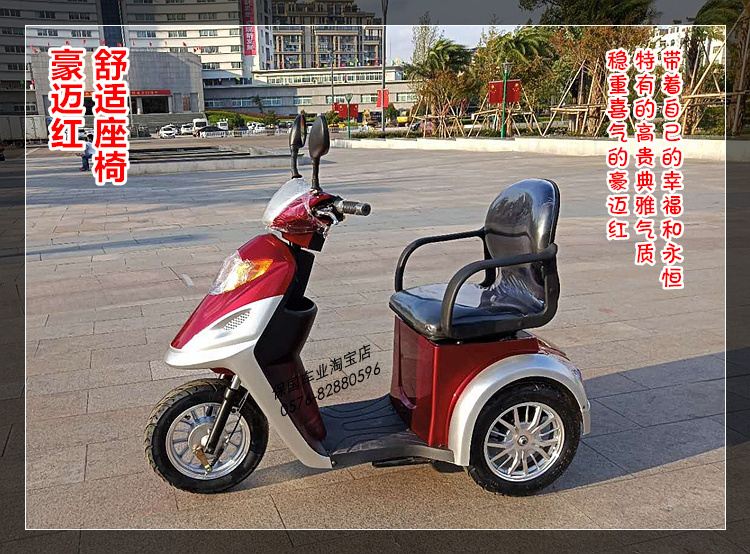电动车: (134, 111, 597, 504)
